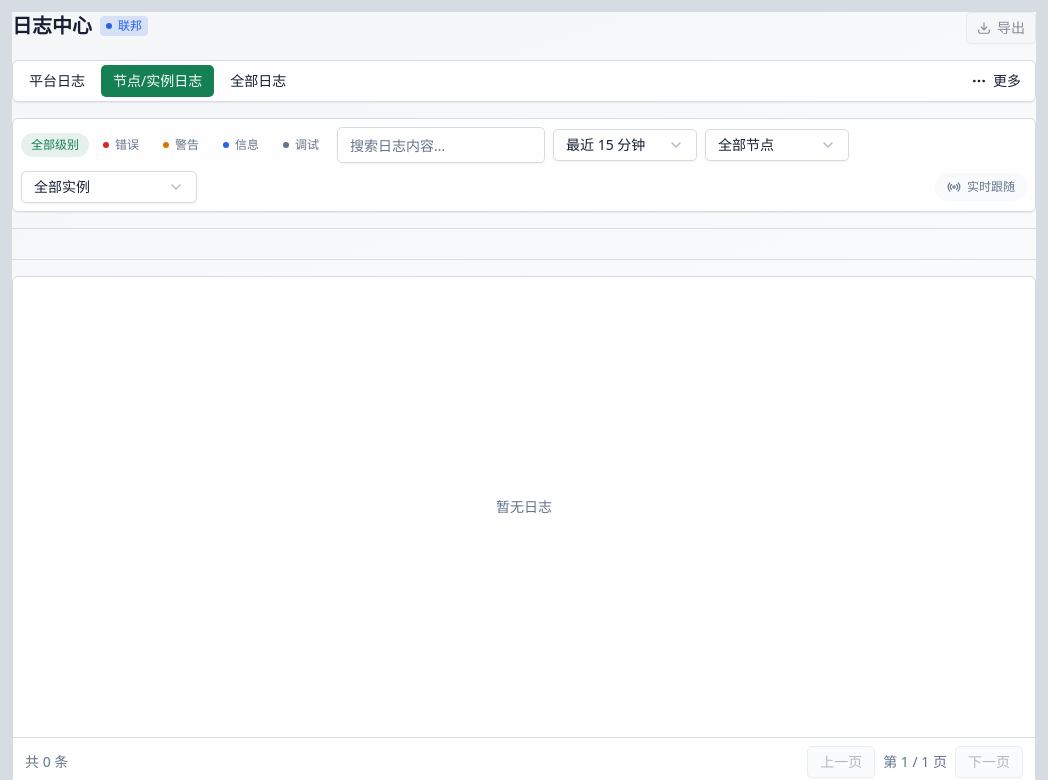
Scenario: LogsPage × logs-federation（FR-482） › Legacy 只读页签不与联邦集合拼接，并关闭导出和实时跟随
# Legacy 只读入口已收纳到右侧「更多」菜单（不再与主视图并列的页签）。
Click the button with test id "logs-more-trigger" at x=996, y=81, box [961,65,1031,97]
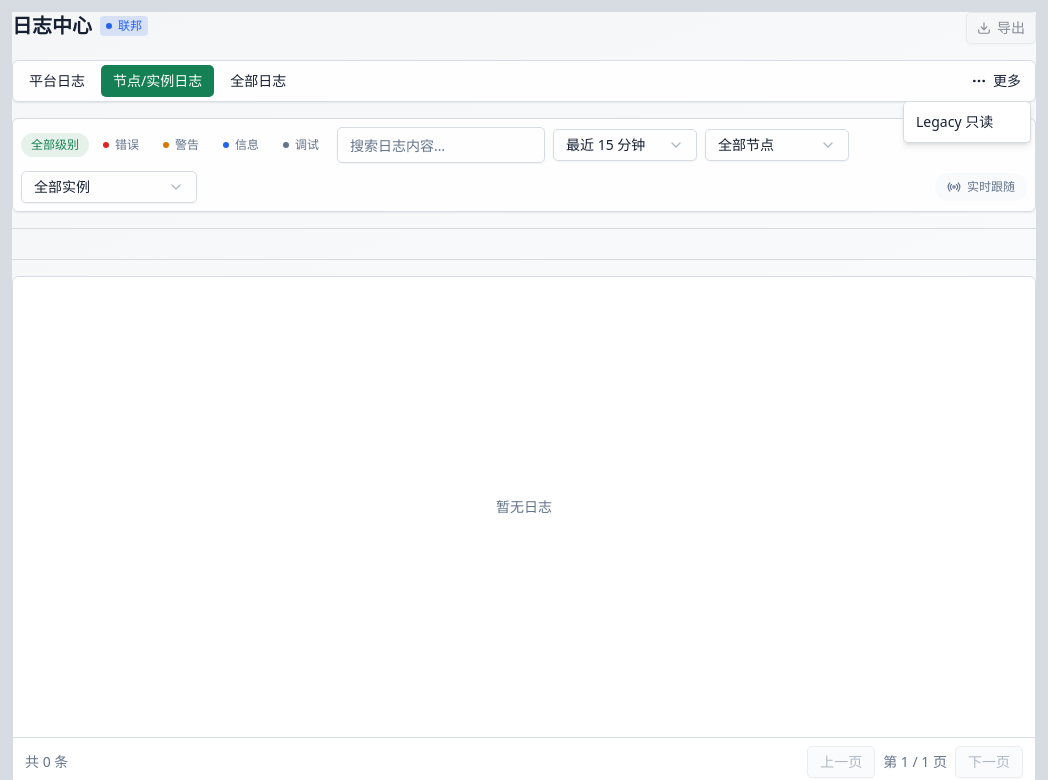
Click the menu item with test id "logs-view-legacy" at x=955, y=122, box [916,112,993,131]
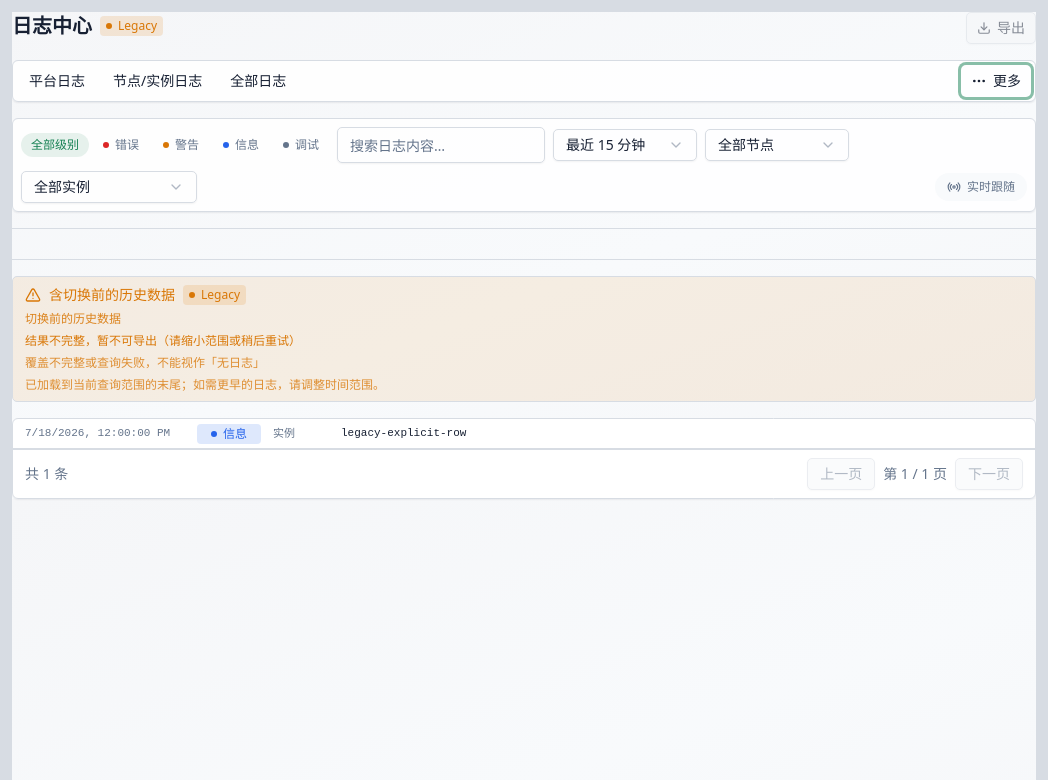
Expected: the button with test id "logs-export-trigger" is disabled, [966,12,1036,44]
Expected: the text "legacy-explicit-row" is shown, [341,427,466,439]
Expected: the element with test id "logs-source-tag" reads "Legacy", [118,16,157,34]
